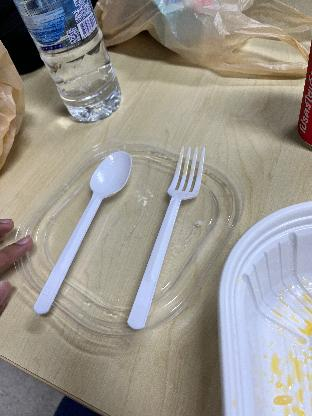Others: (118, 139, 216, 339), (31, 149, 135, 319)
Plastic Bottle: (7, 0, 123, 126)
